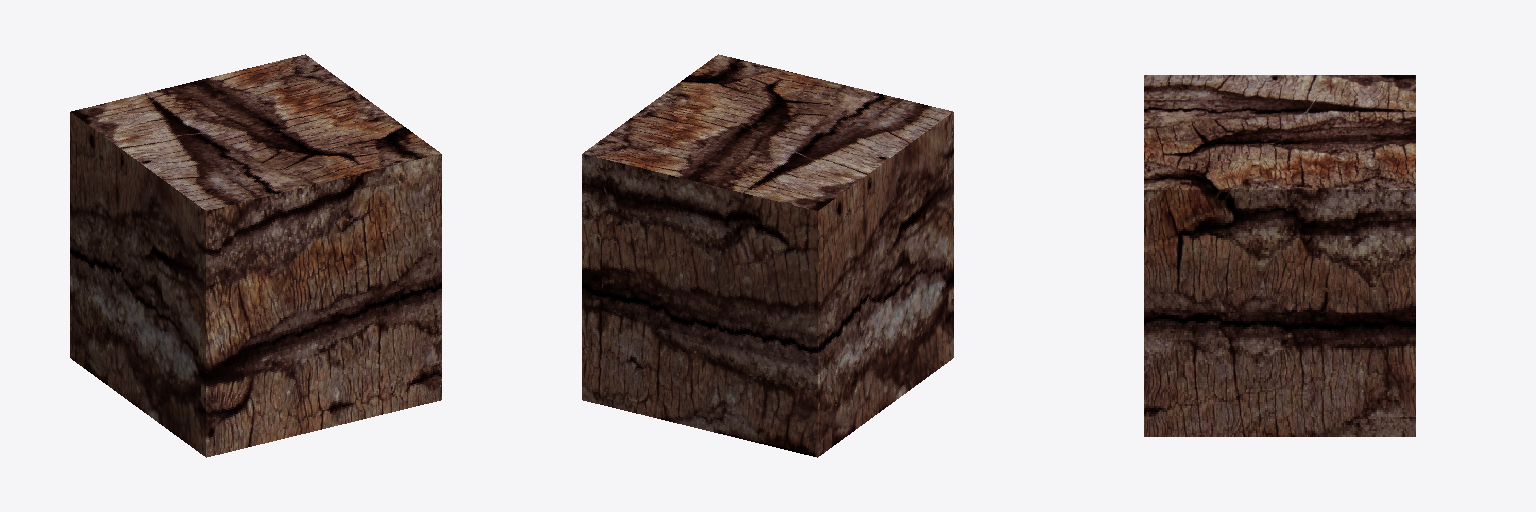
3 views of the same model, side by side, from view 1: azimuth 30°, elevation 25°; view 2: azimuth 150°, elevation 25°; view 3: azimuth 270°, elevation 25° (orthographic).
Parts seen in each view (by area): view 1: Cube; view 2: Cube; view 3: Cube.
Boxes of the visible parts, box(x1,y1,x2,y2) form: Cube: box(70, 54, 441, 457); Cube: box(582, 54, 953, 457); Cube: box(1144, 75, 1415, 436).
Size of the model in its own units: 2 by 2 by 2.
Materials: 1 (1 with a texture image).